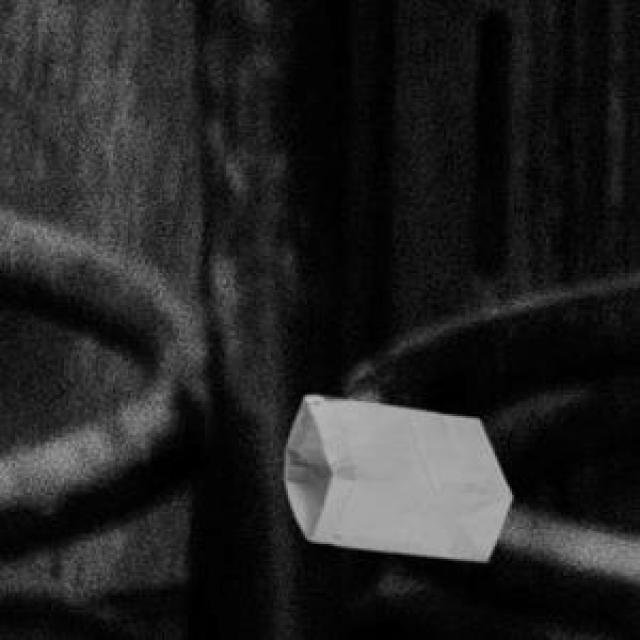paper: (282, 393, 508, 557)
